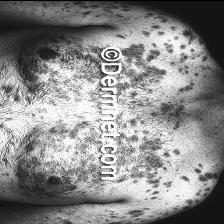Toxin: (118, 134, 176, 182), (122, 41, 166, 67), (178, 28, 196, 50)
